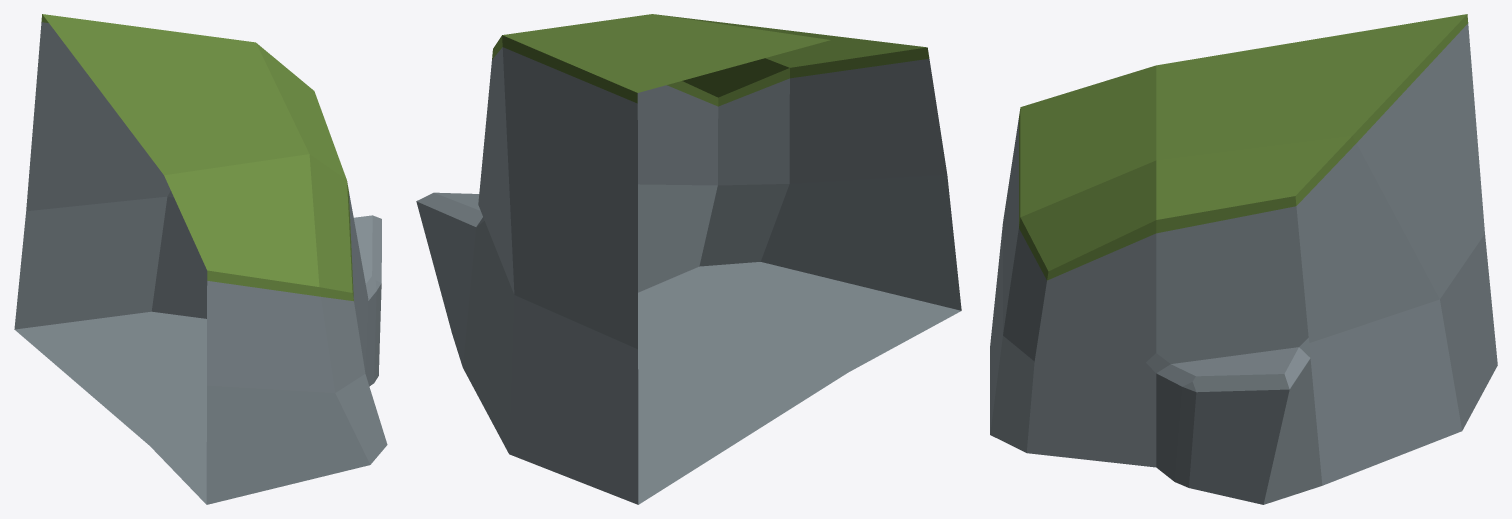
File: Moyen-Rocher.fbx
3 renders of one model, left to right at view 1: azimuth 30°, elevation 25°; view 2: azimuth 150°, elevation 25°; view 3: azimuth 270°, elevation 25°, orthographic. The views are drawn at different scales.
Visible parts, largest first — view 1: Cube.013; view 2: Cube.013; view 3: Cube.013.
Boxes of the visible parts, box(x1,y1,x2,y2) form: Cube.013: box(14, 14, 387, 504); Cube.013: box(416, 14, 961, 504); Cube.013: box(990, 14, 1497, 504).
Bounding box in the file's own units: 528 × 525 × 673.
